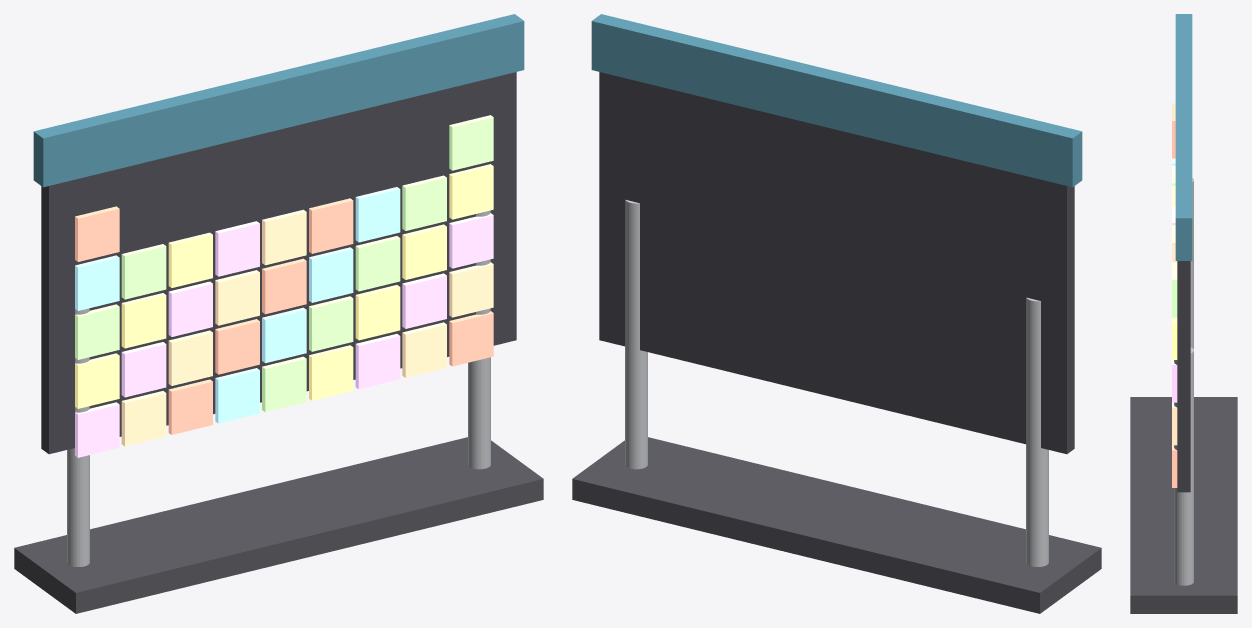
File: periodic_table_display.glb
3 renders of one model, left to right at view 1: azimuth 30°, elevation 25°; view 2: azimuth 150°, elevation 25°; view 3: azimuth 270°, elevation 25°, orthographic. The views are drawn at different scales.
Parts seen in each view (by area): view 1: ChartBoard, ChartFoot, ChartHeader, ChartPost_-3.0, ChartPost_3.0, Tile_2_1, Tile_3_1, Tile_2_6, Tile_3_6, Tile_1_1, Tile_1_6, Tile_4_1 (+31 smaller); view 2: ChartBoard, ChartFoot, ChartHeader, ChartPost_3.0, ChartPost_-3.0; view 3: ChartFoot, ChartHeader, ChartBoard, ChartPost_3.0, ChartPost_-3.0, Tile_0_8, Tile_1_8, Tile_3_8, Tile_2_8, Tile_4_8, Tile_0_0.
Part boxes in pixels (x1,y1,x2,y2): ChartBoard: (41, 72, 516, 454); ChartFoot: (14, 437, 543, 613); ChartHeader: (33, 14, 524, 187); ChartPost_-3.0: (67, 308, 89, 566); ChartPost_3.0: (468, 210, 490, 469); Tile_2_1: (121, 293, 166, 348); Tile_3_1: (121, 342, 166, 397); Tile_2_6: (355, 236, 400, 291); Tile_3_6: (355, 285, 400, 340); Tile_1_1: (121, 244, 166, 299); Tile_1_6: (355, 187, 400, 242); Tile_4_1: (121, 391, 166, 446); ChartBoard: (599, 72, 1074, 454); ChartFoot: (572, 437, 1101, 613); ChartHeader: (591, 14, 1082, 187); ChartPost_3.0: (625, 199, 647, 469); ChartPost_-3.0: (1026, 297, 1048, 566); ChartFoot: (1130, 397, 1237, 613); ChartHeader: (1175, 14, 1192, 260); ChartBoard: (1177, 261, 1190, 492); ChartPost_3.0: (1174, 347, 1193, 585); ChartPost_-3.0: (1190, 178, 1193, 348); Tile_0_8: (1172, 262, 1177, 317); Tile_1_8: (1172, 317, 1177, 359); Tile_3_8: (1172, 402, 1177, 445); Tile_2_8: (1172, 360, 1177, 402); Tile_4_8: (1172, 445, 1177, 487); Tile_0_0: (1172, 103, 1175, 158).
Size of the model in its own units: 7.2 by 6.65 by 1.6.
